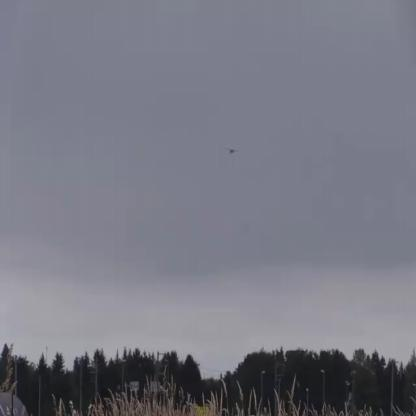CIV_Plane: (222, 138, 243, 163)
